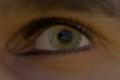eye: (48, 25, 81, 49)
